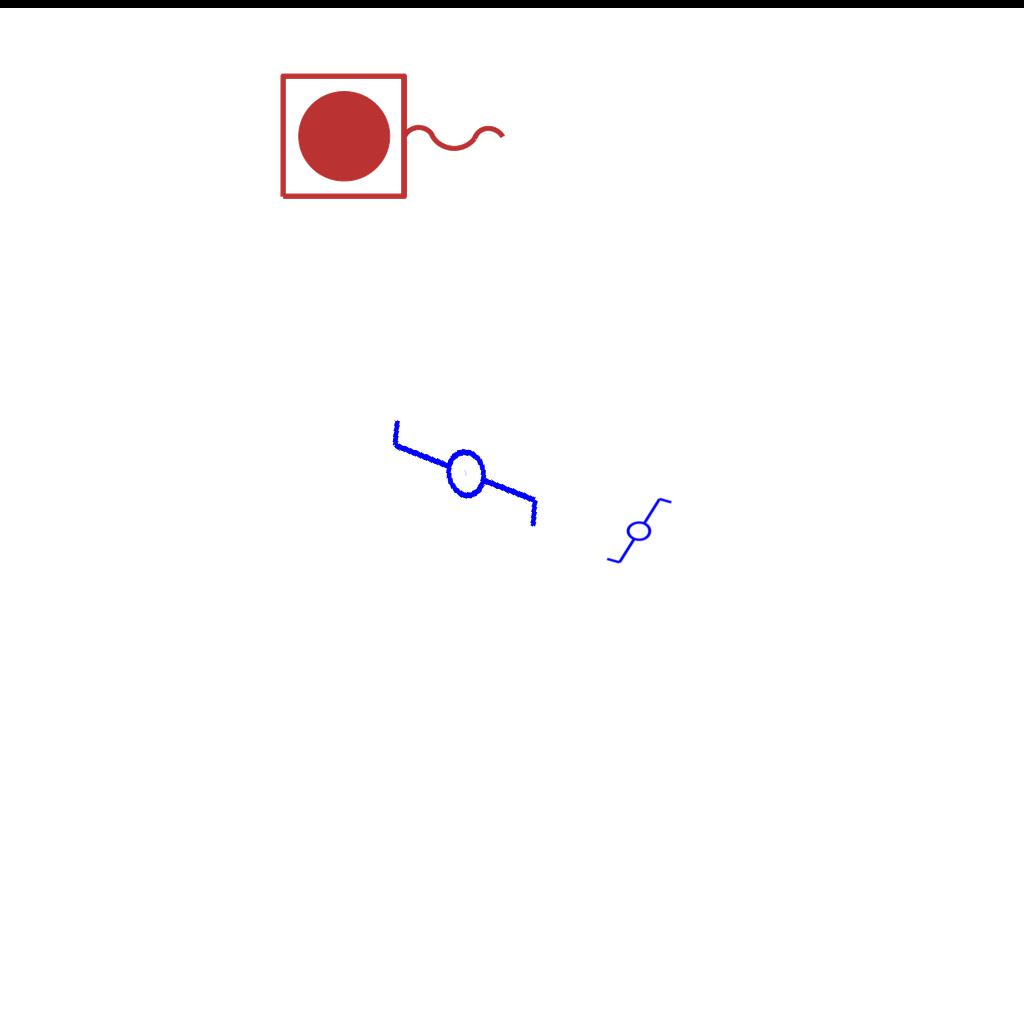Wechselschalter: (379, 391, 552, 573), (596, 494, 674, 566)
Zugtaster: (272, 66, 516, 210)
